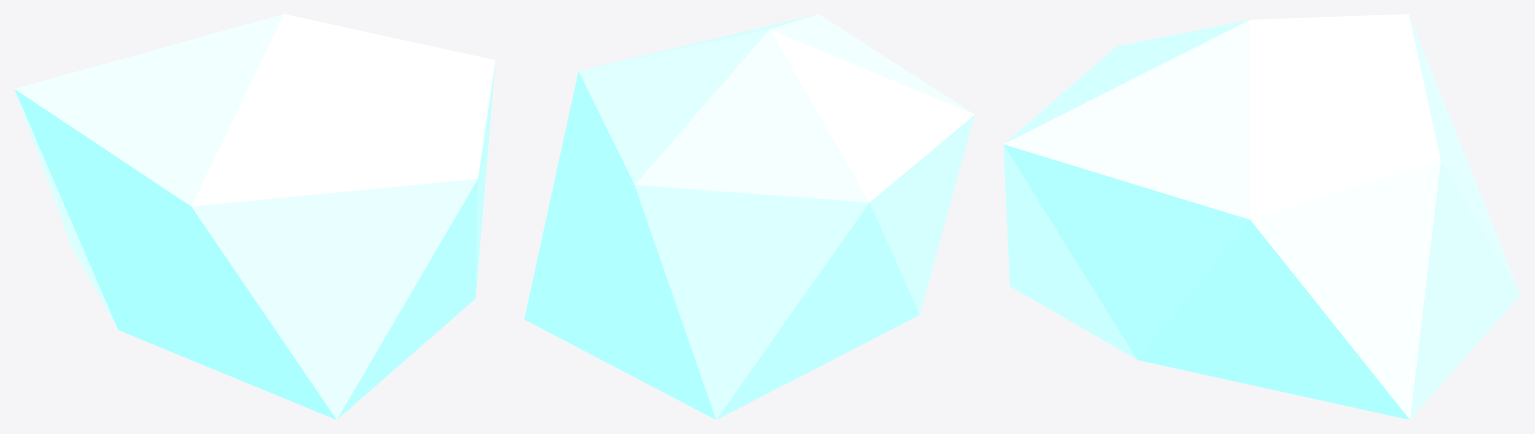
The model's file is chunk-lumen.glb.
The picture shows the model from 3 angles, left to right: view 1: azimuth 30°, elevation 25°; view 2: azimuth 150°, elevation 25°; view 3: azimuth 270°, elevation 25°; orthographic projection. The views are drawn at different scales.
Visible parts, largest first — view 1: chunk-lumen; view 2: chunk-lumen; view 3: chunk-lumen.
Part boxes in pixels (x1=…): chunk-lumen: x1=14, y1=14, x2=495, y2=419; chunk-lumen: x1=524, y1=14, x2=974, y2=419; chunk-lumen: x1=1003, y1=14, x2=1520, y2=419.
Size of the model in its own units: 0.1561 by 0.135 by 0.175.
